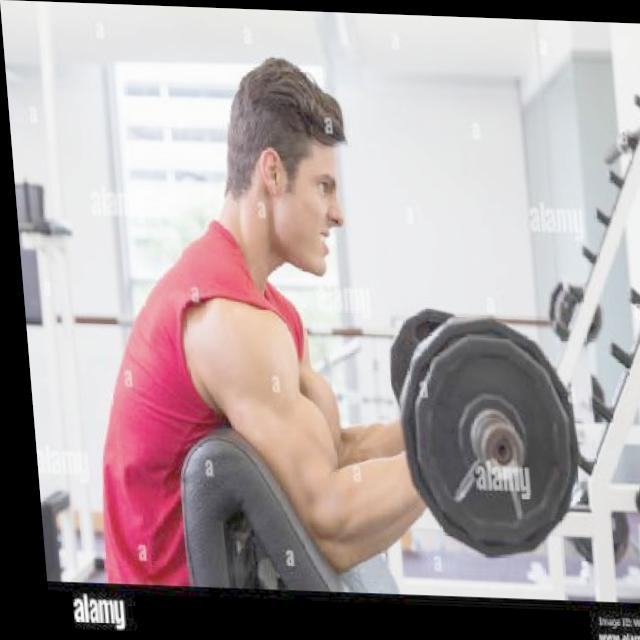barbell: (385, 307, 583, 563)
